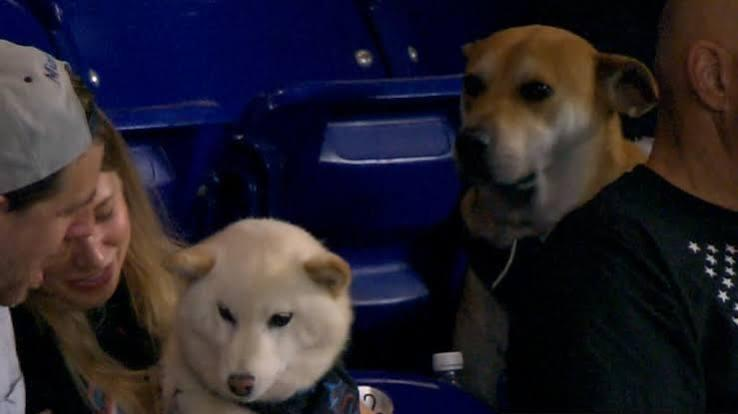adult_dog: (450, 23, 663, 413), (157, 216, 389, 414)
